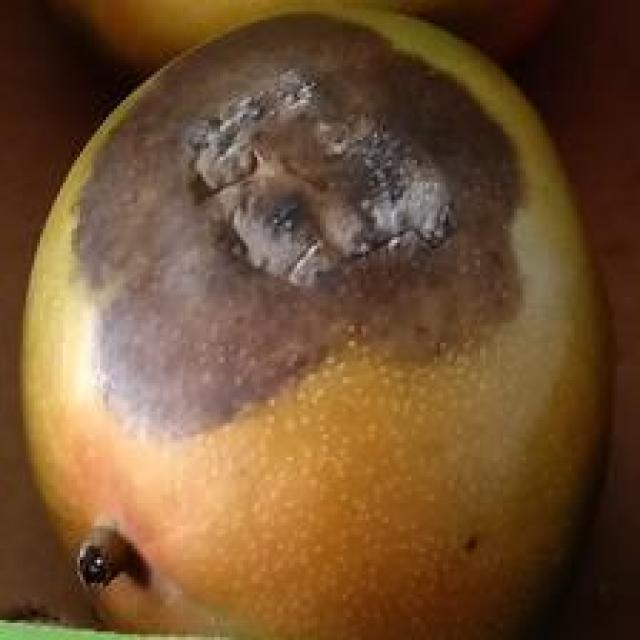Bad_Mango: (25, 10, 598, 639)
